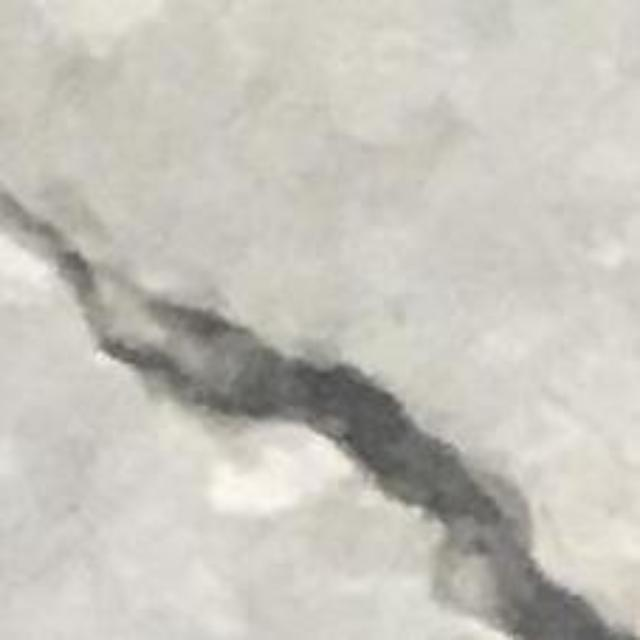crack: (0, 184, 639, 639)
